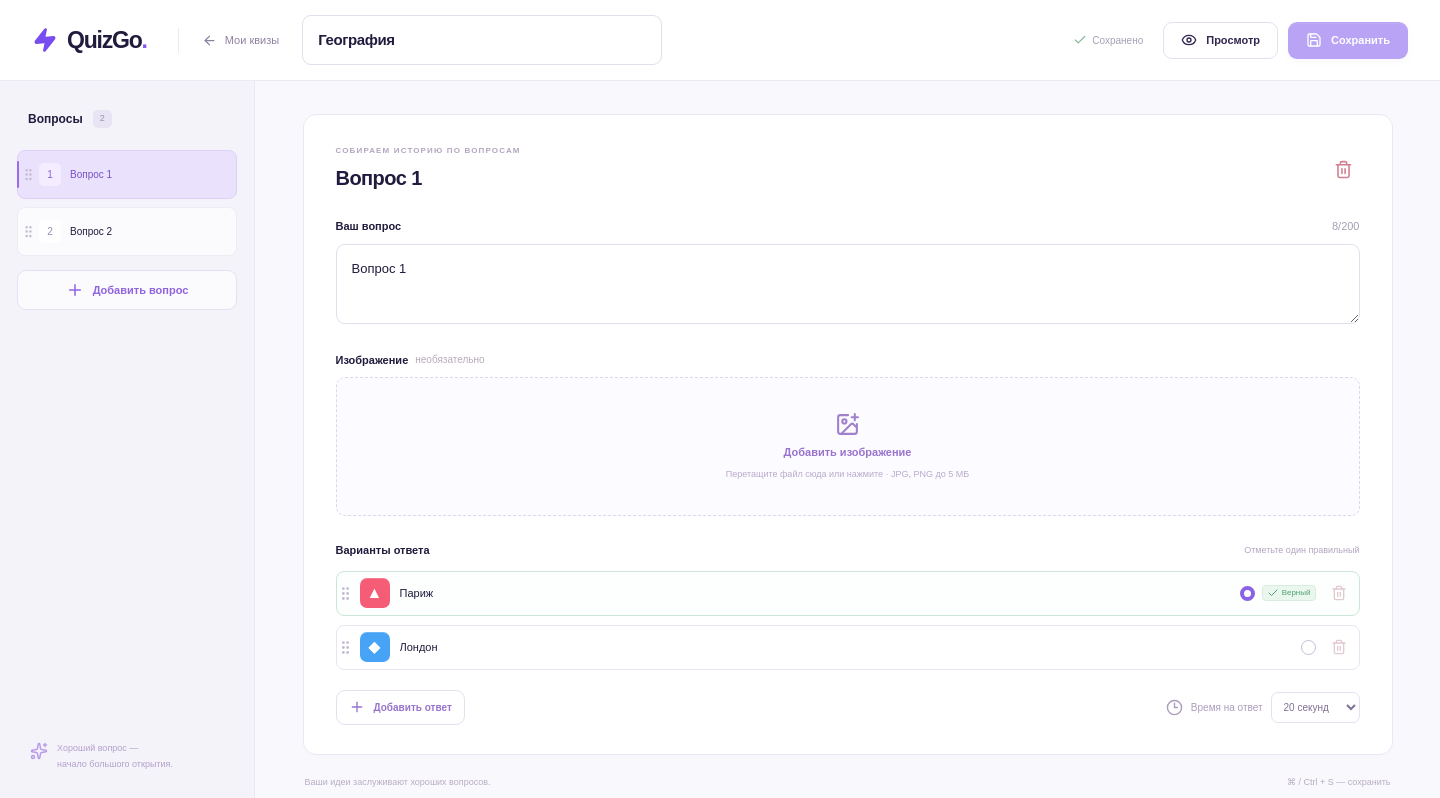
Scenario: editor workflow › validates an incomplete new question before sending a request
Click the button "Добавить вопрос" at (127, 290), box [17,270,237,310]
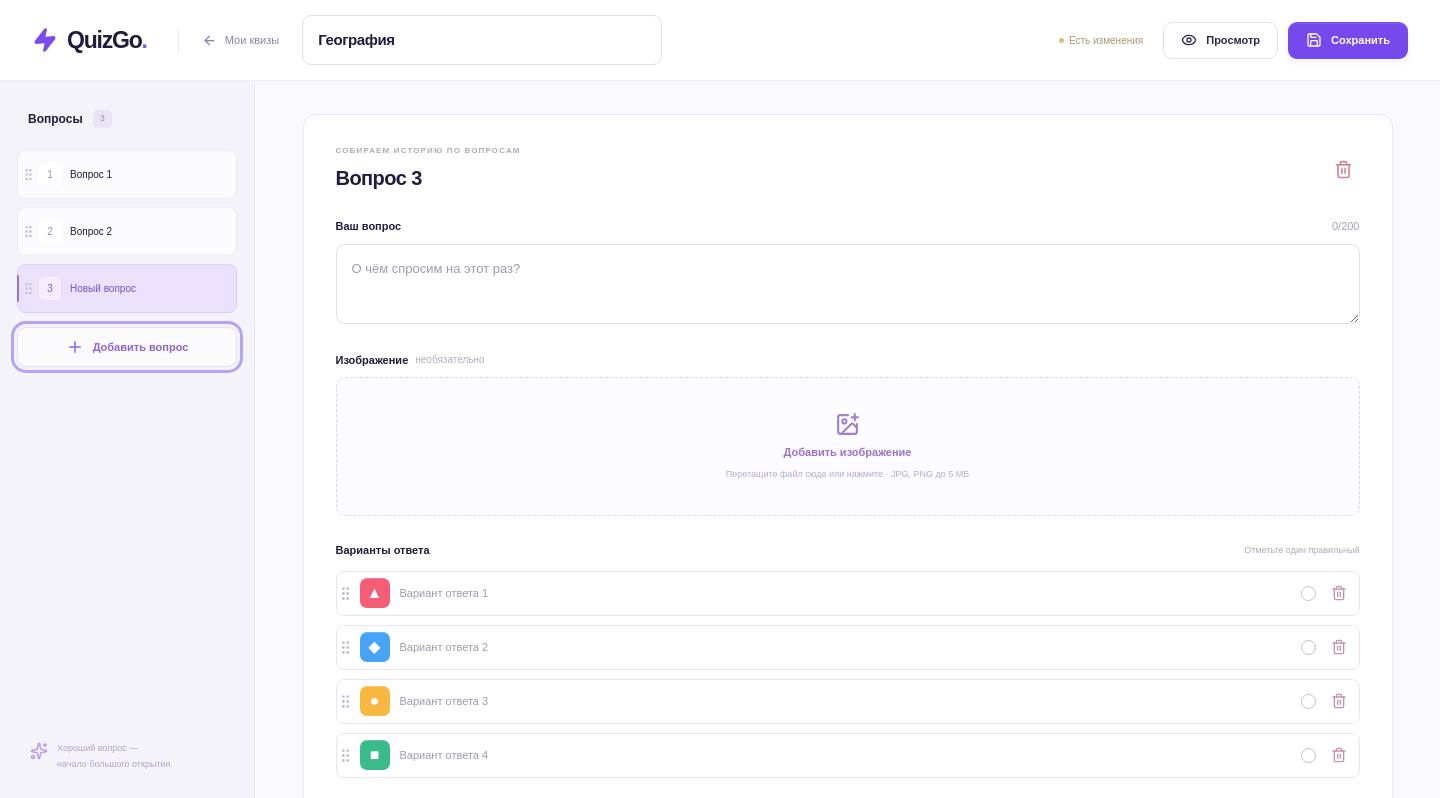
Click the button "Сохранить" at (1348, 40), box [1288,22,1408,58]
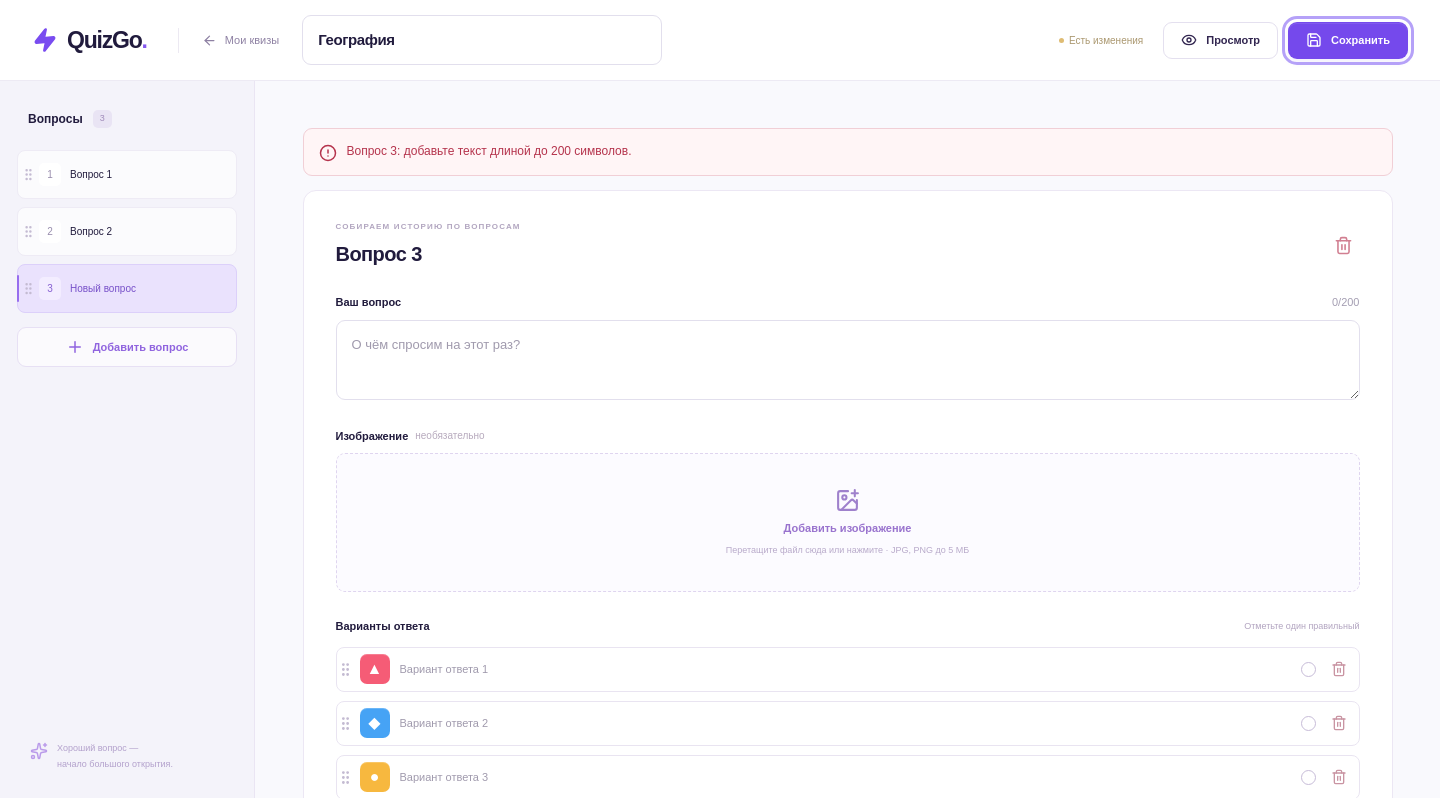
Expected: the message "Вопрос 3: добавьте текст длиной до 200 символов." is shown, [302,128,1392,176]
